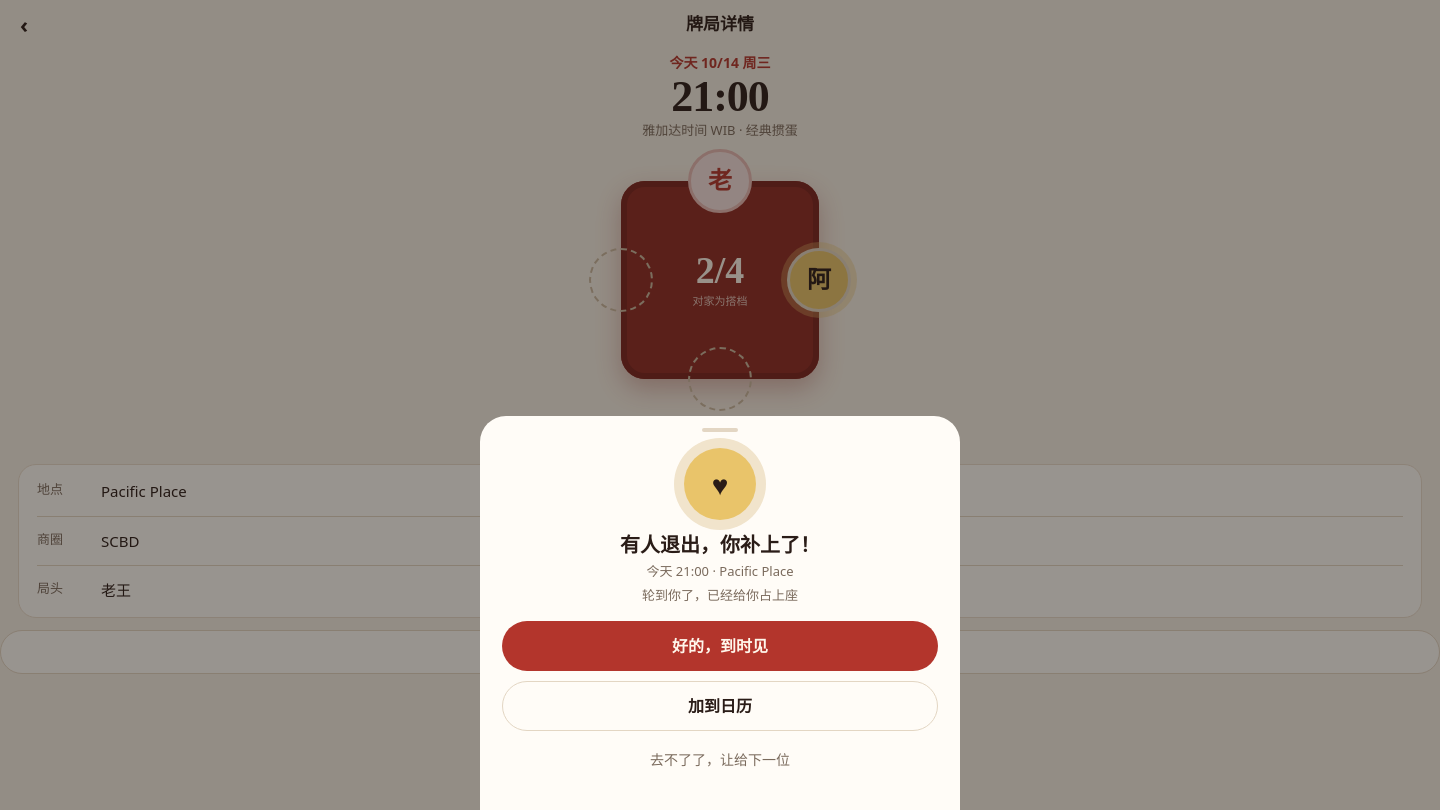
Test: 详情页 › W3：上次是候补、这次打开已经坐上 → 弹「你补上了」；「好的，到时见」关掉
Expected: the dialog with test id "promoted-sheet" is shown, [480,416,960,809]
Click the button "好的，到时见": (720,646) [502,621,938,671]
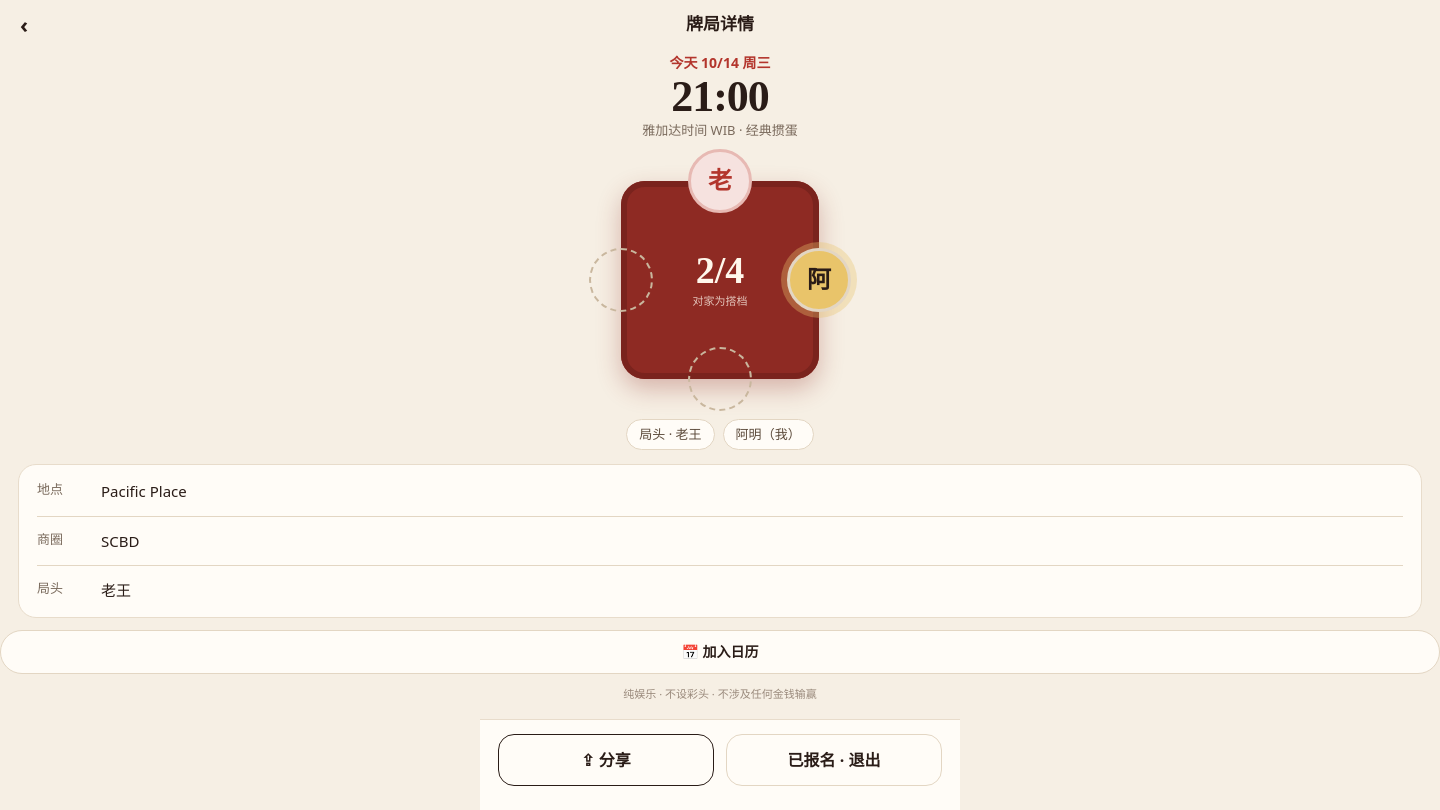
Expected: the dialog with test id "promoted-sheet" is gone
